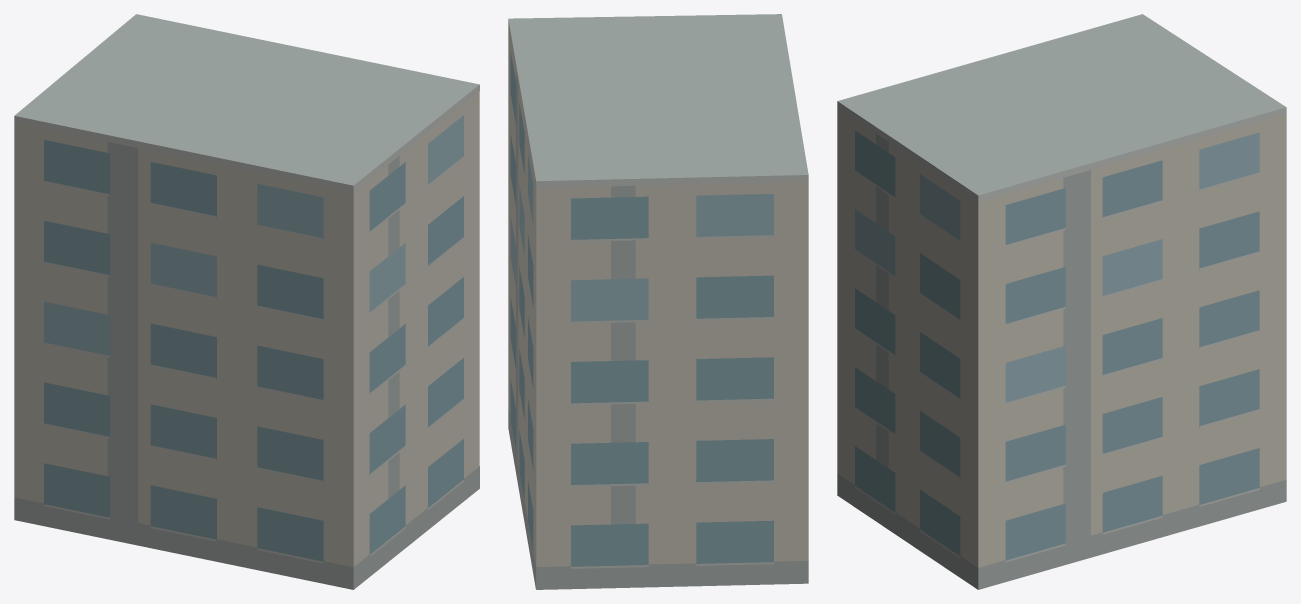
The model's file is survey-upis-32675239.glb.
3 views of the same model, side by side, from view 1: azimuth 30°, elevation 25°; view 2: azimuth 150°, elevation 25°; view 3: azimuth 270°, elevation 25° (orthographic). The views are drawn at different scales.
Parts seen in each view (by area): view 1: survey-upis-32675239.tmp; view 2: survey-upis-32675239.tmp; view 3: survey-upis-32675239.tmp.
Boxes of the visible parts, box(x1,y1,x2,y2) form: survey-upis-32675239.tmp: box(14, 14, 479, 589); survey-upis-32675239.tmp: box(508, 14, 808, 589); survey-upis-32675239.tmp: box(837, 14, 1286, 589).
Size of the model in its own units: 14.37 by 14.55 by 15.03.
